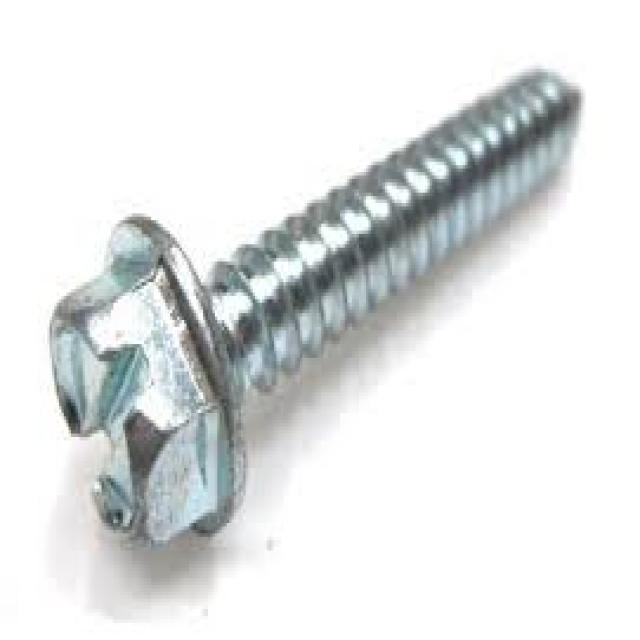Screw: (47, 65, 583, 551)
